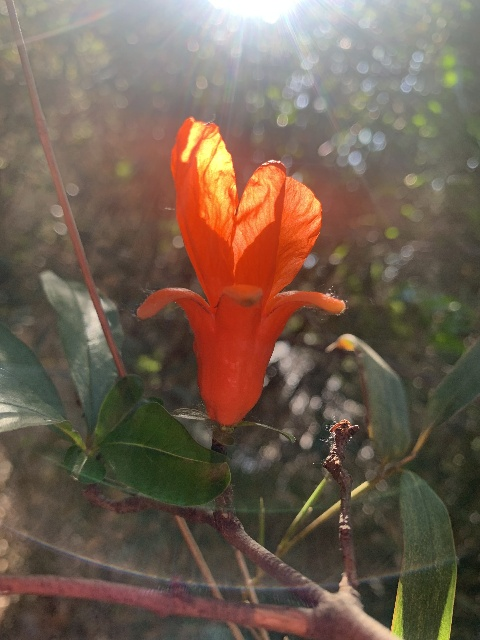flower: (136, 117, 345, 426)
